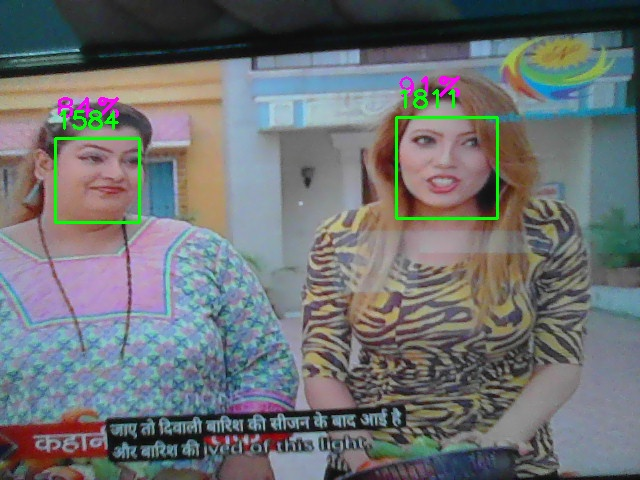fake: (396, 117, 498, 219), (55, 138, 140, 223)
